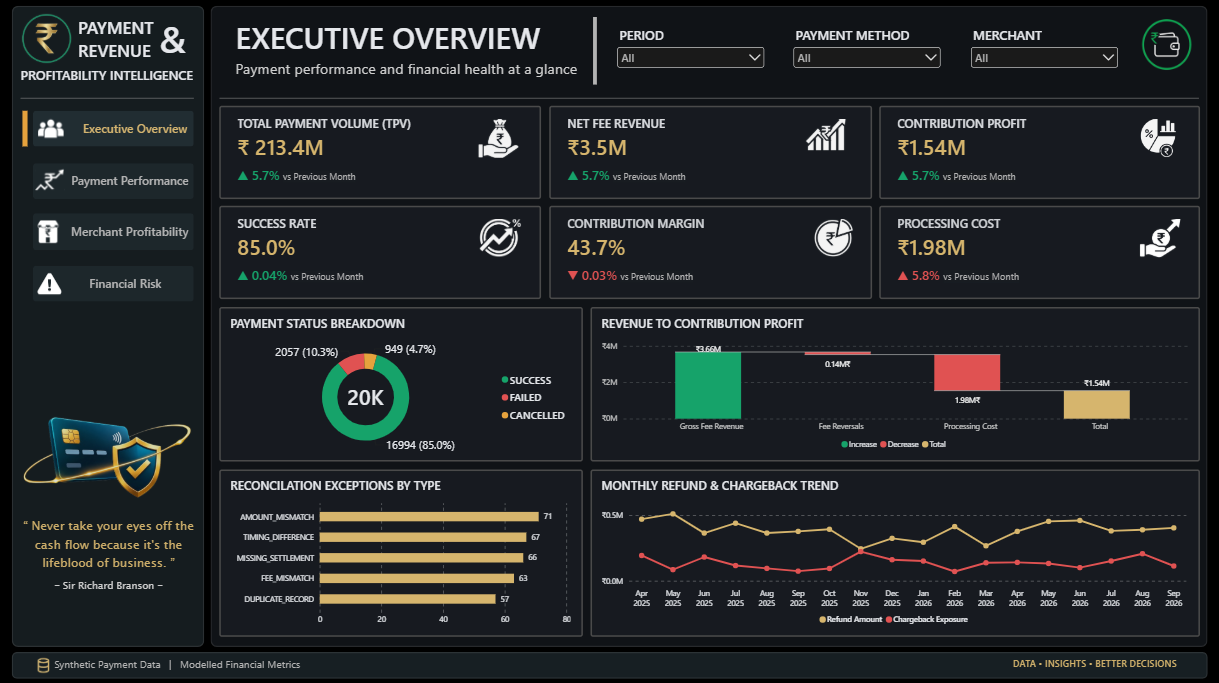

This screenshot's page, from the dashboard's own definition file:
{"tool":"powerbi","page":{"name":"Executive Overview","canvas":[1920,1080],"ordinal":0},"visuals":[{"type":"shape","box":[22,14,302,1006],"z":0},{"type":"image","box":[20.2,614.7,292.6,219],"z":0,"group":"g2"},{"type":"shape","box":[36,152,272,12],"z":1000},{"type":"textbox","title":"“ Never take your eyes off the cash flow because it''s the lifeblood of business. ” ","box":[34.9,815.3,276.1,123.3],"z":1000,"group":"g2"},{"type":"shape","box":[334,14,1564,1006],"z":2000},{"type":"cardVisual","fields":{"Data":["ALL_Measures.Processing Cost"]},"box":[1382,328,503,146],"z":3000},{"type":"cardVisual","fields":{"Data":["ALL_Measures.Contribution Margin"]},"box":[864,328,506,146],"z":4000},{"type":"cardVisual","fields":{"Data":["ALL_Measures.Success Rate"]},"box":[348,328,505,146],"z":5000},{"type":"shape","box":[348,152,1537,12],"z":6000},{"type":"textbox","title":"EXECUTIVE OVERVIEW","box":[372,32,546,96],"z":7000},{"type":"actionButton","box":[54,260,252,56],"z":8000},{"type":"actionButton","box":[54,178,252,56],"z":9000},{"type":"actionButton","box":[54,340,252,58],"z":10000},{"type":"actionButton","box":[54,422,252,56],"z":11000},{"type":"textbox","title":"PAYMENT REVENUE","box":[126,30,122,66],"z":15000},{"type":"textbox","title":"&","box":[252.5,25,47.5,65],"z":16000},{"type":"shape","box":[34,178,18,56],"z":17000},{"type":"textbox","title":"PROFITABILITY INTELLIGENCE","box":[36,108,280,34],"z":18000},{"type":"image","box":[1786,34,94,82],"z":19000},{"type":"image","box":[32,26,90,78],"z":20000},{"type":"shape","box":[22,1028,1876,42],"z":21000},{"type":"slicer","fields":{"Values":["Date.Month Year"]},"box":[966,46,240,80],"z":22000},{"type":"shape","box":[930,32,14,106],"z":23000},{"type":"image","box":[52,1034,36,30],"z":23000,"group":"g1"},{"type":"slicer","fields":{"Values":["Transactions.payment_method"]},"box":[1244,46,240,80],"z":24000},{"type":"textbox","box":[88,1036,392,28],"z":24000,"group":"g1"},{"type":"cardVisual","fields":{"Data":["ALL_Measures.Total TPV"]},"box":[348,170,505,146],"z":25000},{"type":"textbox","box":[1592,1036,264,28],"z":25000,"group":"g1"},{"type":"cardVisual","fields":{"Data":["ALL_Measures.Net Fee Revenue"]},"box":[864,170,506,146],"z":26000},{"type":"cardVisual","fields":{"Data":["ALL_Measures.Contribution Profit"]},"box":[1382,170,503,146],"z":27000},{"type":"slicer","fields":{"Values":["Merchants.merchant_name"]},"box":[1522,46,240,80],"z":28000},{"type":"group","id":"g1","title":"Group 1","box":[52,1034,1804,30],"z":29000},{"type":"donutChart","title":"PAYMENT STATUS BREAKDOWN","fields":{"Category":["Transactions.status"],"Y":["CountNonNull(Transactions.transaction_id)"]},"box":[348,486,570,242],"z":30000},{"type":"waterfallChart","title":"REVENUE TO CONTRIBUTION PROFIT","fields":{"Category":["Revenue Bridge Steps.Step"],"Y":["ALL_Measures.Revenue Bridge Value"]},"box":[930,486,956,242],"z":31000},{"type":"clusteredBarChart","title":"RECONCILATION EXCEPTIONS BY TYPE","fields":{"Category":["Reconciliation Exceptions.exception_type"],"Y":["CountNonNull(Reconciliation Exceptions.exception_id)"]},"box":[348,742,570,262],"z":32000},{"type":"lineChart","title":"MONTHLY REFUND & CHARGEBACK TREND","fields":{"Category":["Date.Month Year"],"Y":["ALL_Measures.Refund Amount","ALL_Measures.Chargeback Exposure"]},"box":[930,742,956,262],"z":33000},{"type":"group","id":"g2","title":"Group 2","box":[20.2,614.7,292.6,323.9],"z":33001}]}

Visuals, with their boxes in screenshot pixels (x1, y1, x2, y2), scaled from the page's 1920x1080 canvas onto the 1219x683 screenshot:
shape: detection(14, 9, 206, 645)
image: detection(13, 389, 199, 527)
shape: detection(23, 96, 196, 104)
"“ Never take your eyes off the cash flow because it''s the lifeblood of business. ” " textbox: detection(22, 516, 197, 594)
shape: detection(212, 9, 1205, 645)
cardVisual - ALL_Measures.Processing Cost: detection(877, 207, 1197, 300)
cardVisual - ALL_Measures.Contribution Margin: detection(549, 207, 870, 300)
cardVisual - ALL_Measures.Success Rate: detection(221, 207, 542, 300)
shape: detection(221, 96, 1197, 104)
"EXECUTIVE OVERVIEW" textbox: detection(236, 20, 583, 81)
actionButton: detection(34, 164, 194, 200)
actionButton: detection(34, 113, 194, 148)
actionButton: detection(34, 215, 194, 252)
actionButton: detection(34, 267, 194, 302)
"PAYMENT REVENUE" textbox: detection(80, 19, 157, 61)
"&" textbox: detection(160, 16, 190, 57)
shape: detection(22, 113, 33, 148)
"PROFITABILITY INTELLIGENCE" textbox: detection(23, 68, 201, 90)
image: detection(1134, 22, 1194, 73)
image: detection(20, 16, 77, 66)
shape: detection(14, 650, 1205, 677)
slicer - Date.Month Year: detection(613, 29, 766, 80)
shape: detection(590, 20, 599, 87)
image: detection(33, 654, 56, 673)
slicer - Transactions.payment_method: detection(790, 29, 942, 80)
textbox: detection(56, 655, 305, 673)
cardVisual - ALL_Measures.Total TPV: detection(221, 108, 542, 200)
textbox: detection(1011, 655, 1178, 673)
cardVisual - ALL_Measures.Net Fee Revenue: detection(549, 108, 870, 200)
cardVisual - ALL_Measures.Contribution Profit: detection(877, 108, 1197, 200)
slicer - Merchants.merchant_name: detection(966, 29, 1119, 80)
"Group 1" group: detection(33, 654, 1178, 673)
"PAYMENT STATUS BREAKDOWN" donutChart: detection(221, 307, 583, 460)
"REVENUE TO CONTRIBUTION PROFIT" waterfallChart: detection(590, 307, 1197, 460)
"RECONCILATION EXCEPTIONS BY TYPE" clusteredBarChart: detection(221, 469, 583, 635)
"MONTHLY REFUND & CHARGEBACK TREND" lineChart: detection(590, 469, 1197, 635)
"Group 2" group: detection(13, 389, 199, 594)
